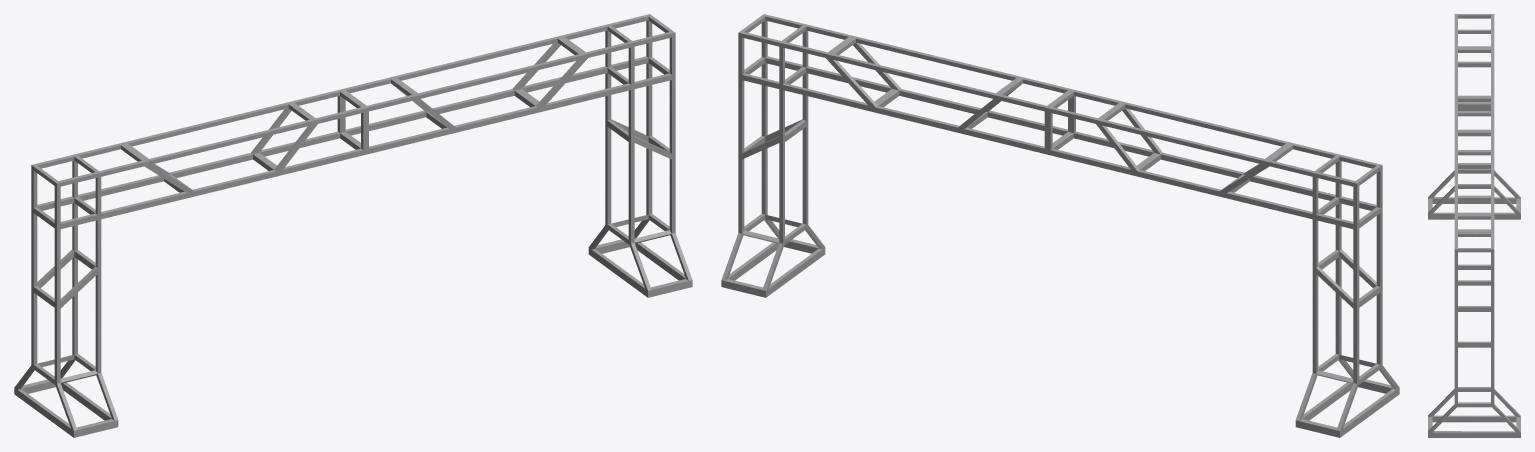
Rendered from WallCage.fbx.
The picture shows the model from 3 angles, left to right: view 1: azimuth 30°, elevation 25°; view 2: azimuth 150°, elevation 25°; view 3: azimuth 270°, elevation 25°; orthographic projection. The views are drawn at different scales.
Visible parts, largest first — view 1: ProperTopologyWallHolder; view 2: ProperTopologyWallHolder; view 3: ProperTopologyWallHolder.
Part boxes in pixels (x1,y1,x2,y2): ProperTopologyWallHolder: (14,14,692,437); ProperTopologyWallHolder: (721,14,1399,437); ProperTopologyWallHolder: (1428,14,1520,437).
Size of the model in its own units: 904 by 338 by 151.
